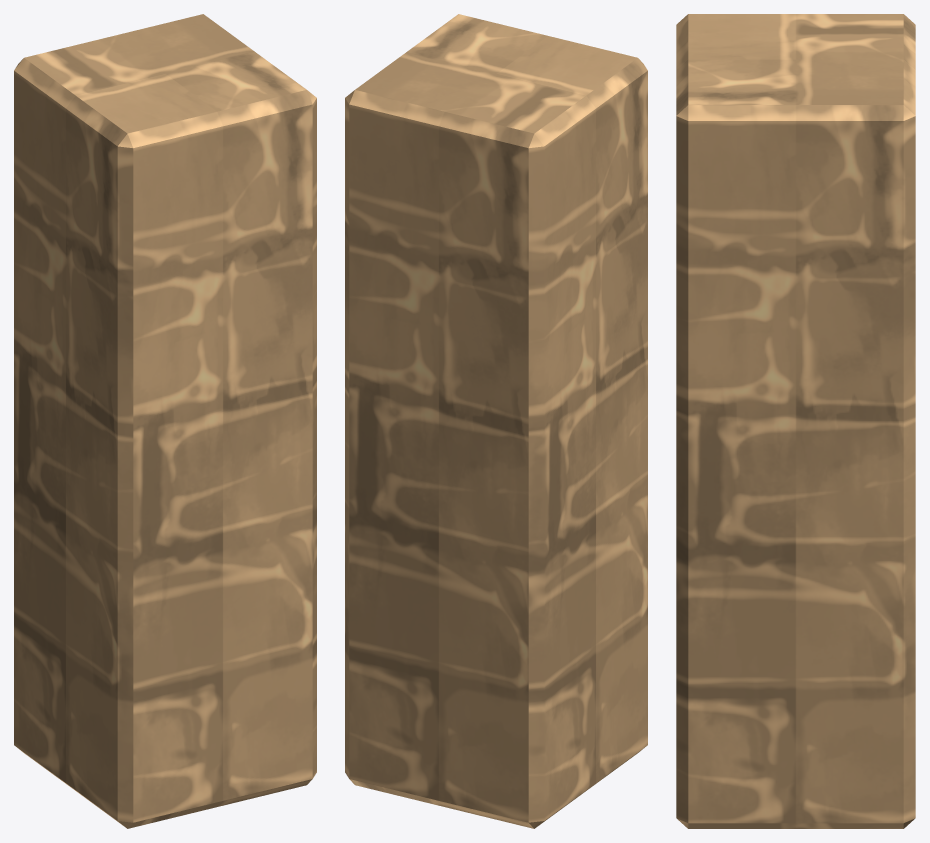
The model's file is post_1m.gltf.
3 views of the same model, side by side, from view 1: azimuth 30°, elevation 25°; view 2: azimuth 150°, elevation 25°; view 3: azimuth 270°, elevation 25° (orthographic). The views are drawn at different scales.
Parts seen in each view (by area): view 1: post_1m; view 2: post_1m; view 3: post_1m.
Boxes of the visible parts, <box> form: post_1m: <box>14,14,316,828</box>; post_1m: <box>345,14,647,828</box>; post_1m: <box>676,14,915,828</box>.
Bounding box in the file's own units: 0.3 × 1 × 0.3.
1 material, 1 textured.
